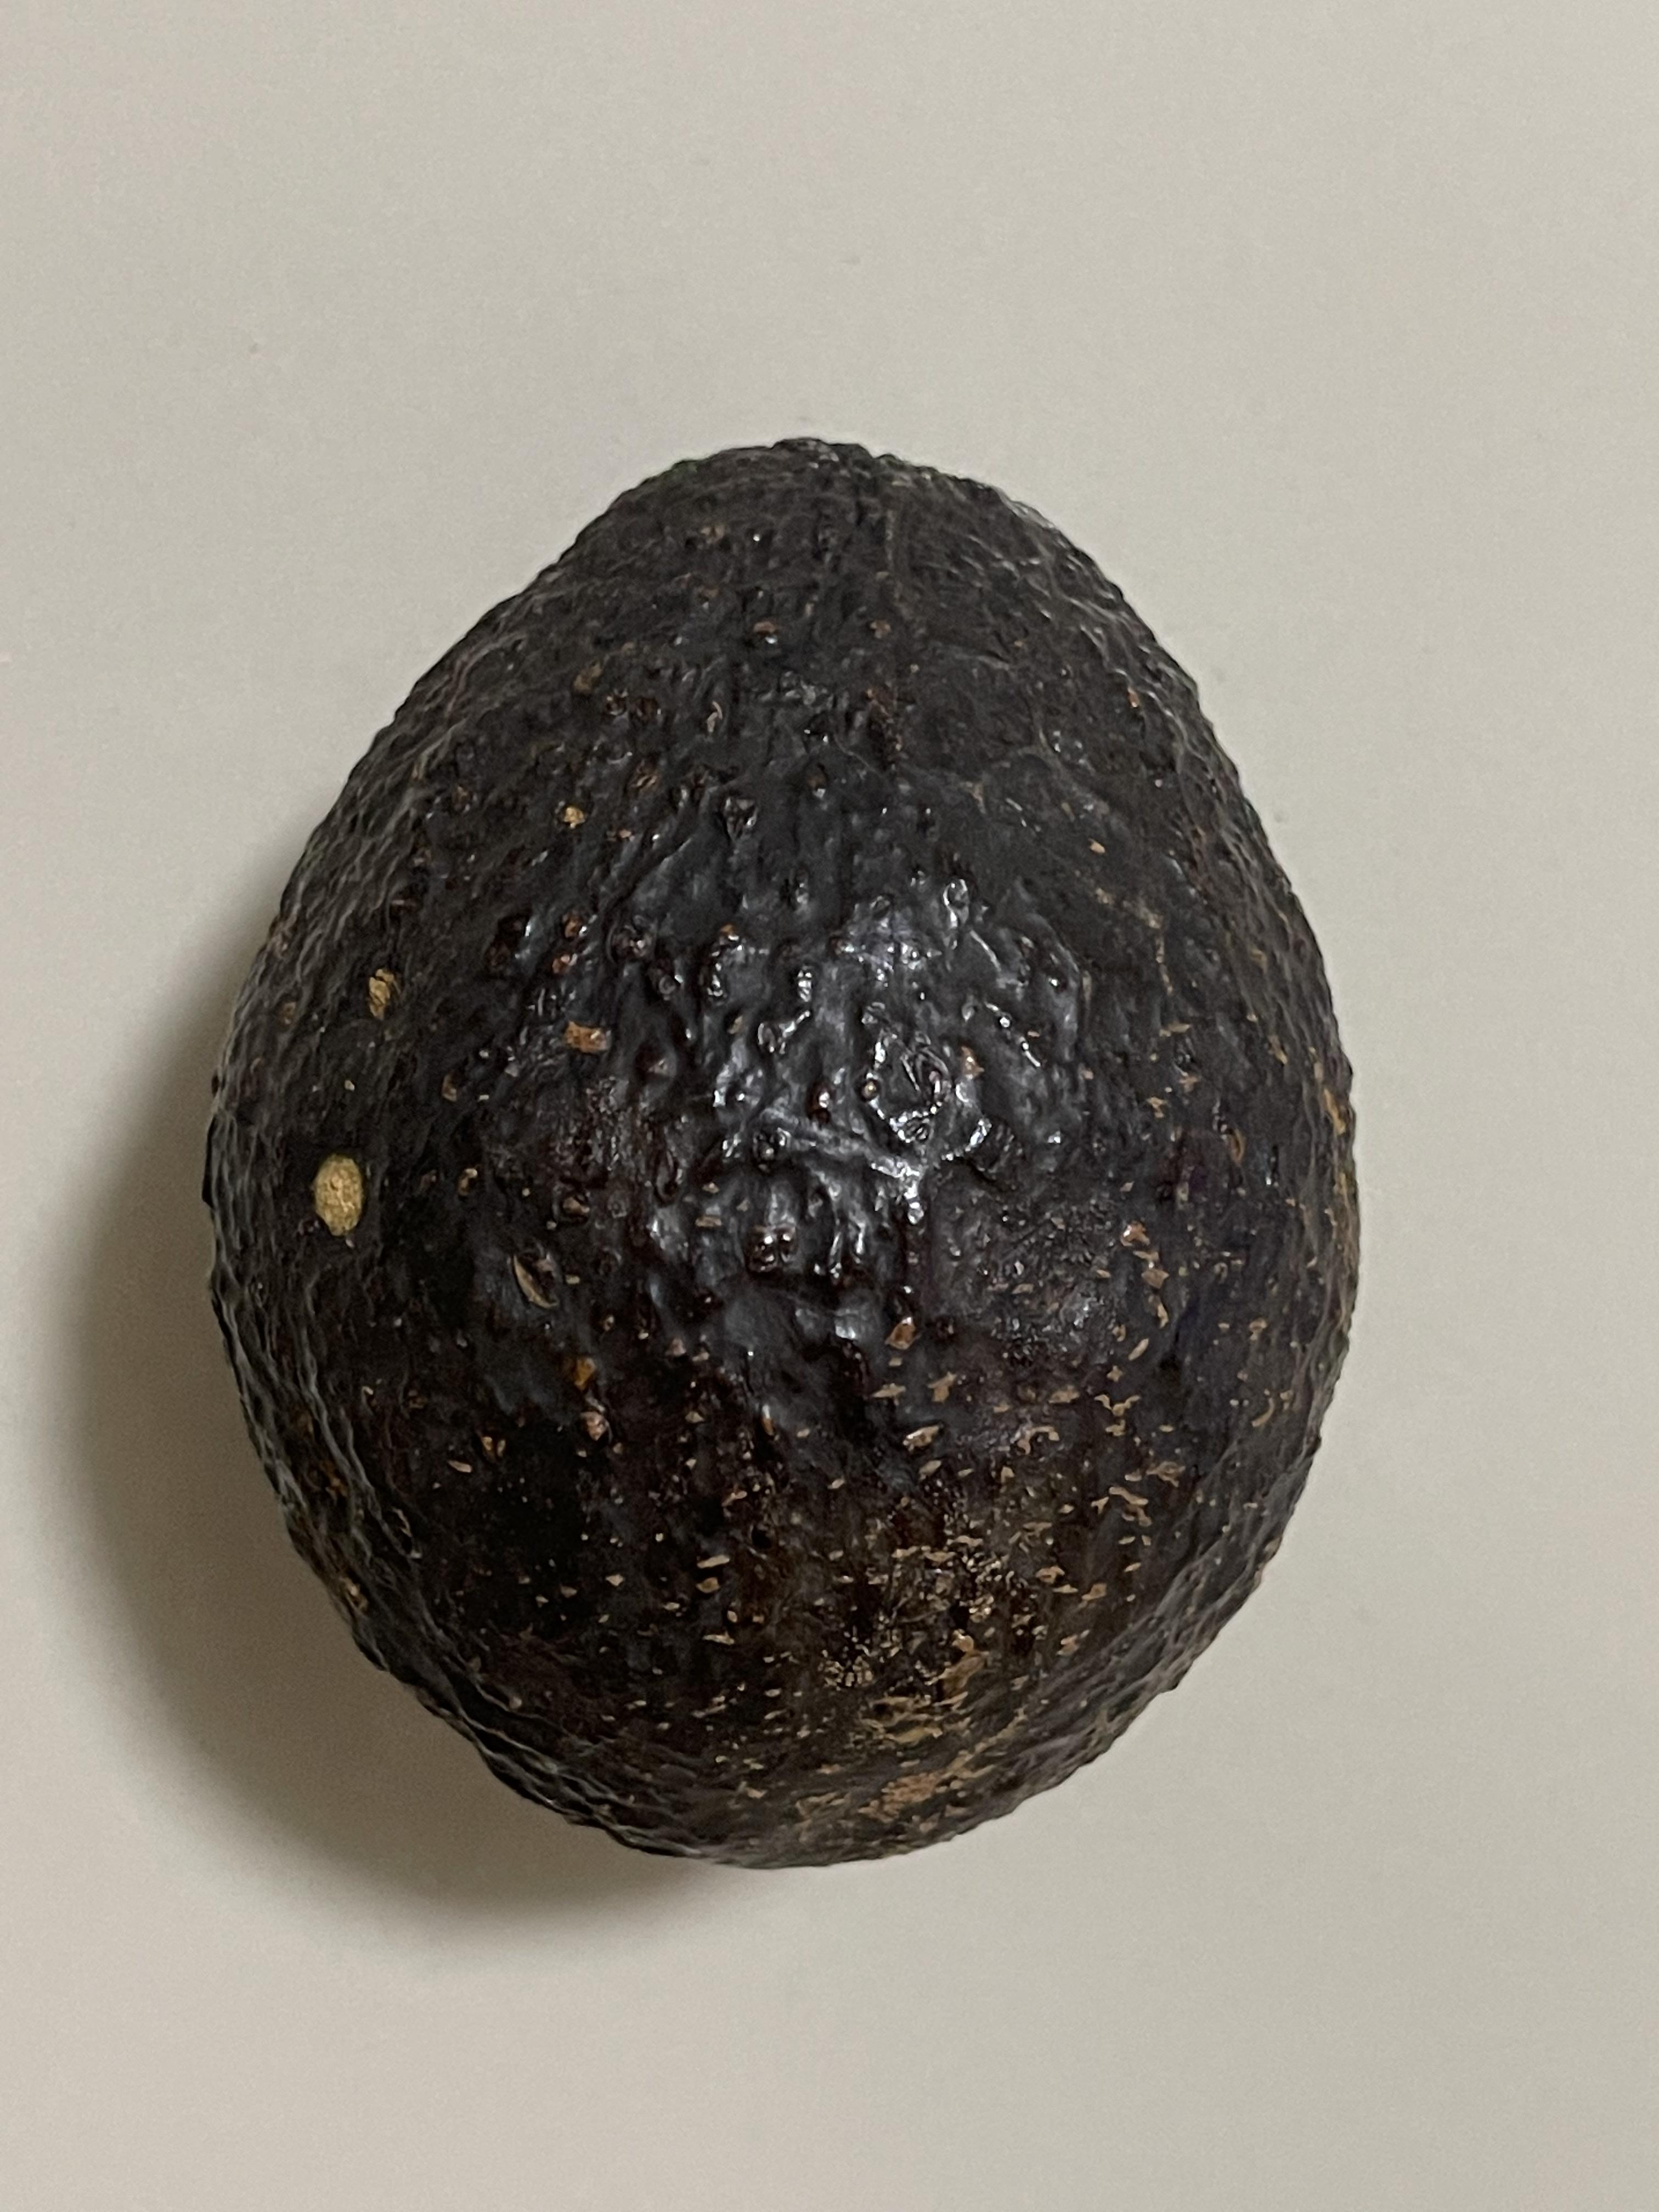Level4: (176, 395, 1398, 1900)
